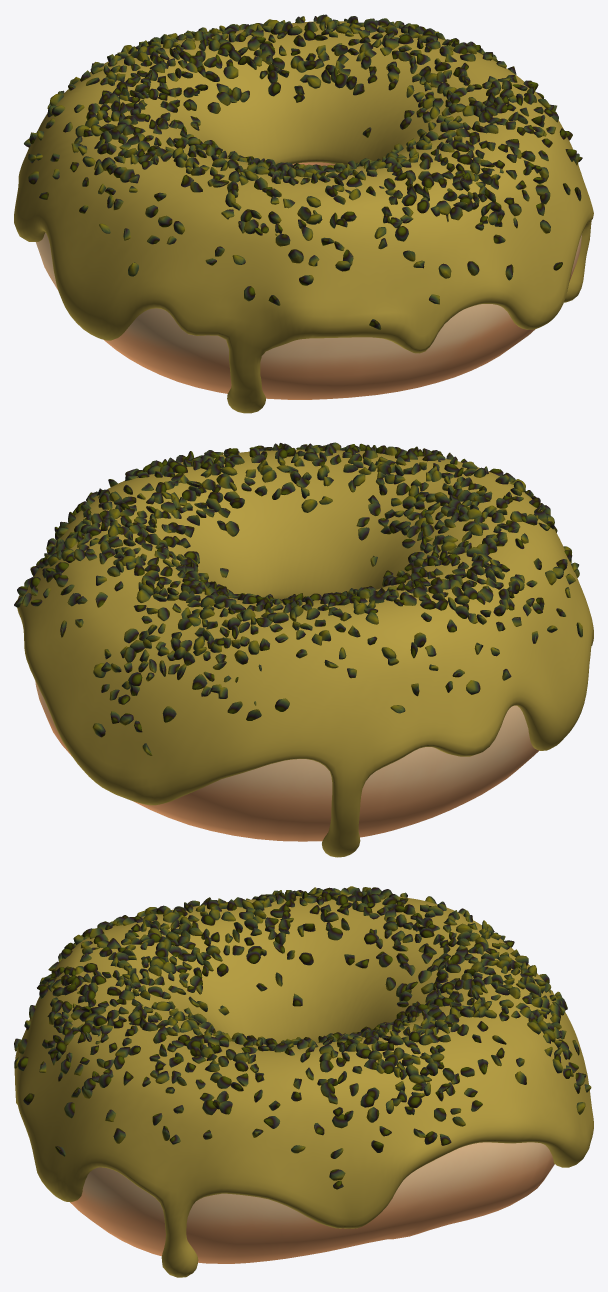
Rendered from DonutPistacho.glb.
3 renders of one model, top to bottom at view 1: azimuth 30°, elevation 25°; view 2: azimuth 150°, elevation 25°; view 3: azimuth 270°, elevation 25°, orthographic. The views are drawn at different scales.
Parts seen in each view (by area): view 1: Glaze.001, Donut1.001; view 2: Glaze.001, Donut1.001; view 3: Glaze.001, Donut1.001.
Boxes of the visible parts, left/top/right/bottom form: Glaze.001: left=14, top=14, right=593, bottom=413; Donut1.001: left=36, top=162, right=581, bottom=399; Glaze.001: left=14, top=442, right=593, bottom=857; Donut1.001: left=35, top=681, right=538, bottom=841; Glaze.001: left=14, top=886, right=593, bottom=1277; Donut1.001: left=70, top=1142, right=554, bottom=1263.
Size of the model in its own units: 4.8 by 2.2 by 4.96.
Materials: 3 (2 with a texture image).
